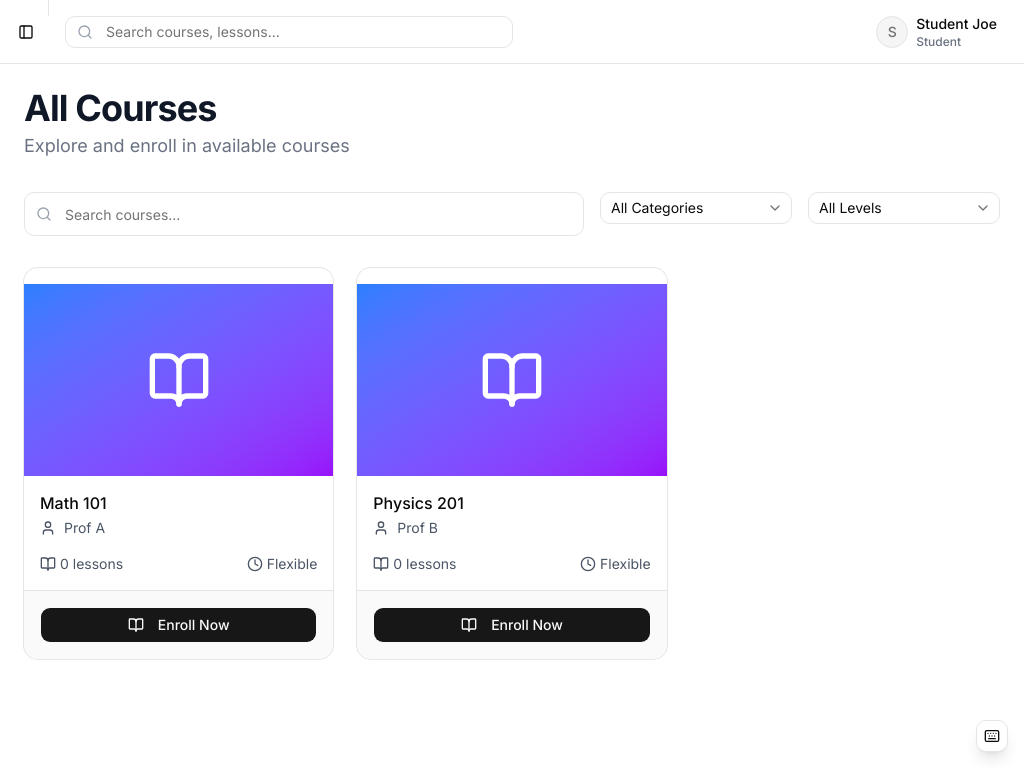
Test: Student Enrollment Flow › opens enrollment dialog when Enroll Now is clicked
Expected: the text "Math 101" is shown, 40,493 -> 107,513
Click the button "Enroll Now" below "Prof A" at (179, 625), box 40,607 -> 317,643
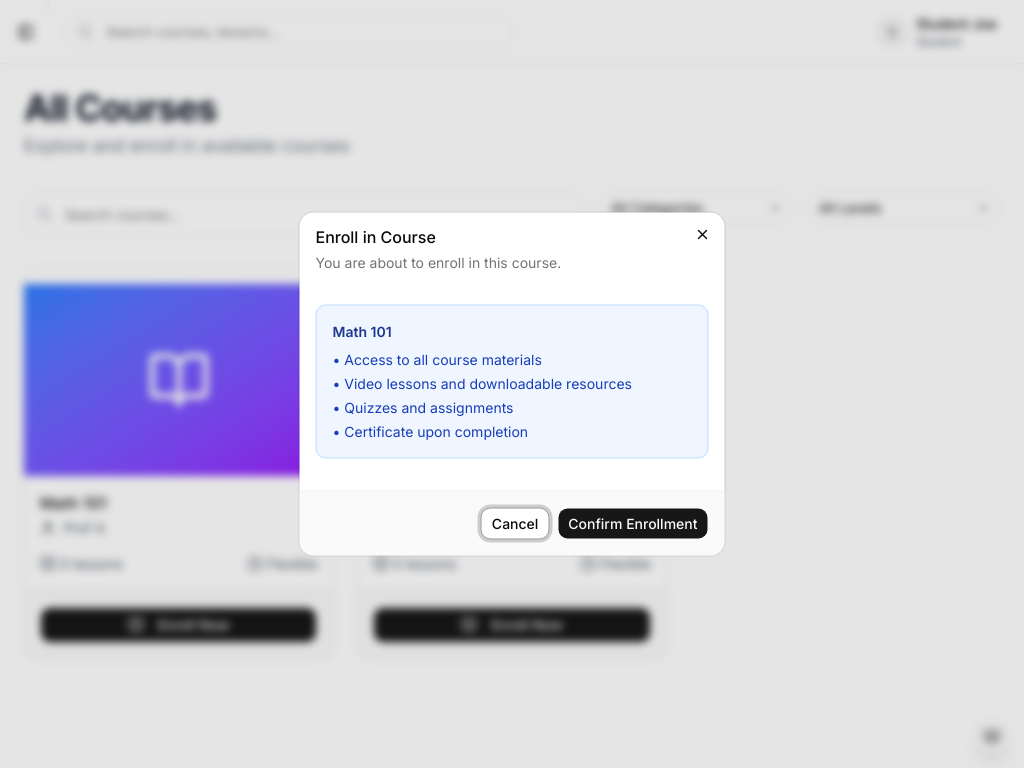
Expected: the button "Confirm Enrollment" is shown, 557,508 -> 708,540
